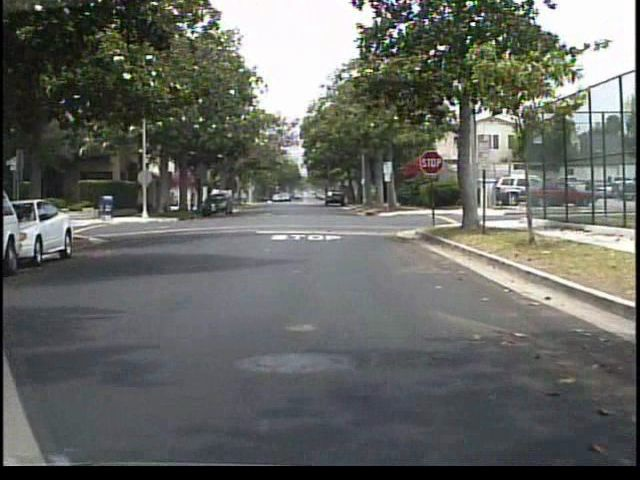person: (185, 179, 208, 222)
